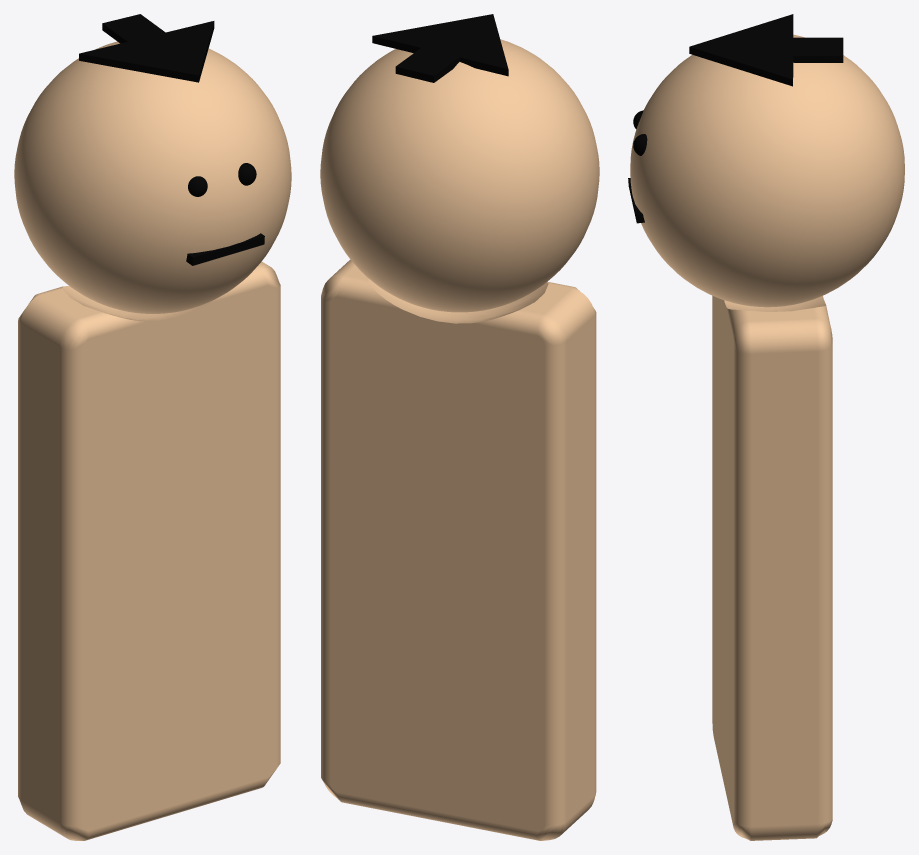
Rendered from bpoker.obj.
3 views of the same model, side by side, from view 1: azimuth 30°, elevation 25°; view 2: azimuth 150°, elevation 25°; view 3: azimuth 270°, elevation 25° (orthographic).
Visible parts, largest first — view 1: 1_Curve.002_Curve.002, 5.002_Curve.002_Curve.002; view 2: 1_Curve.002_Curve.002, 5.002_Curve.002_Curve.002; view 3: 1_Curve.002_Curve.002, 5.002_Curve.002_Curve.002.
Part boxes in pixels (x1,y1,x2,y2): 1_Curve.002_Curve.002: (14, 41, 291, 840); 5.002_Curve.002_Curve.002: (79, 14, 264, 265); 1_Curve.002_Curve.002: (320, 39, 599, 840); 5.002_Curve.002_Curve.002: (372, 14, 508, 82); 1_Curve.002_Curve.002: (630, 34, 904, 840); 5.002_Curve.002_Curve.002: (628, 14, 843, 223).
Size of the model in its own units: 0.1662 by 0.4993 by 0.1672.
